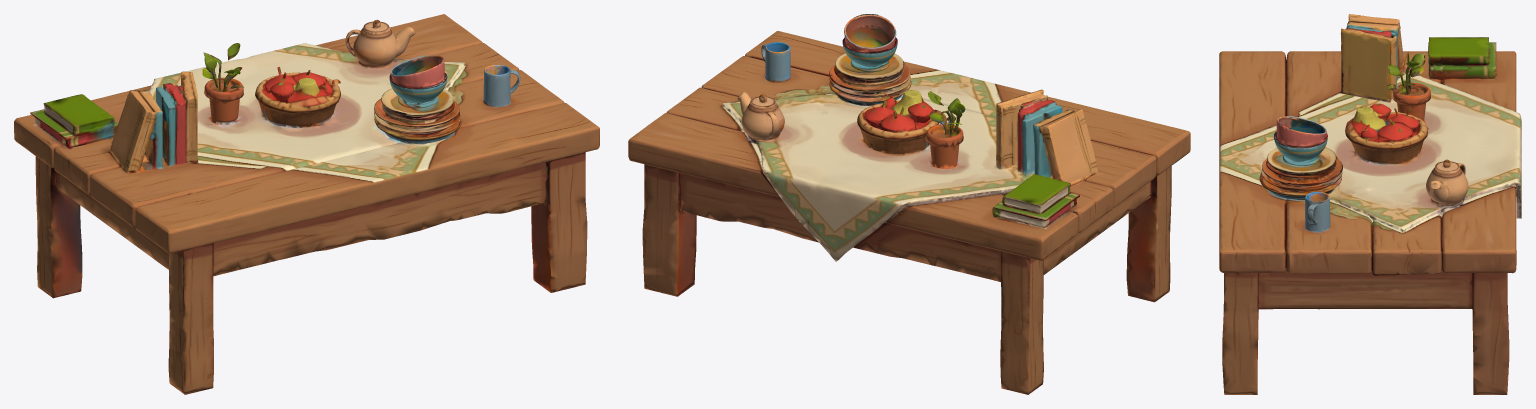
Rendered from wooden+dining+table+3d+model.fbx.
3 renders of one model, left to right at view 1: azimuth 30°, elevation 25°; view 2: azimuth 150°, elevation 25°; view 3: azimuth 270°, elevation 25°, orthographic. The views are drawn at different scales.
Parts seen in each view (by area): view 1: tripo_node_a5f3474a; view 2: tripo_node_a5f3474a; view 3: tripo_node_a5f3474a.
Boxes of the visible parts, left/top/right/bottom form: tripo_node_a5f3474a: left=14, top=14, right=599, bottom=394; tripo_node_a5f3474a: left=628, top=14, right=1190, bottom=394; tripo_node_a5f3474a: left=1219, top=14, right=1521, bottom=394.
Size of the model in its own units: 0.9999 by 0.5359 by 0.6351.
Materials: 1 (1 with a texture image).
